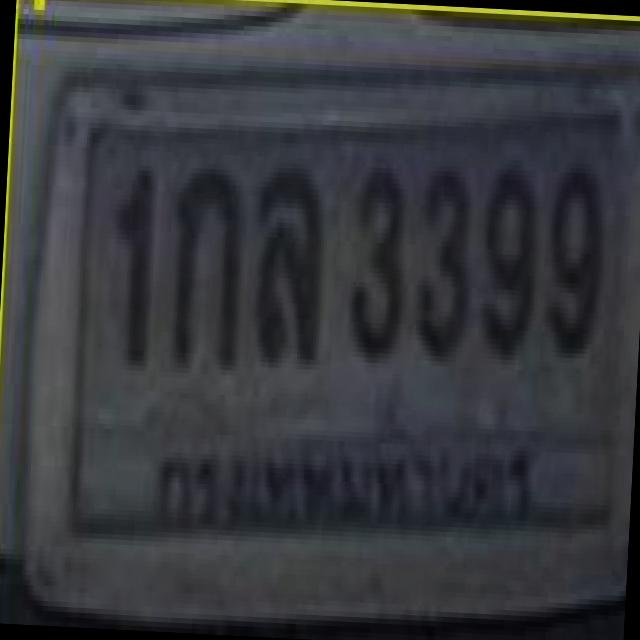license_plate: (17, 60, 640, 631)
